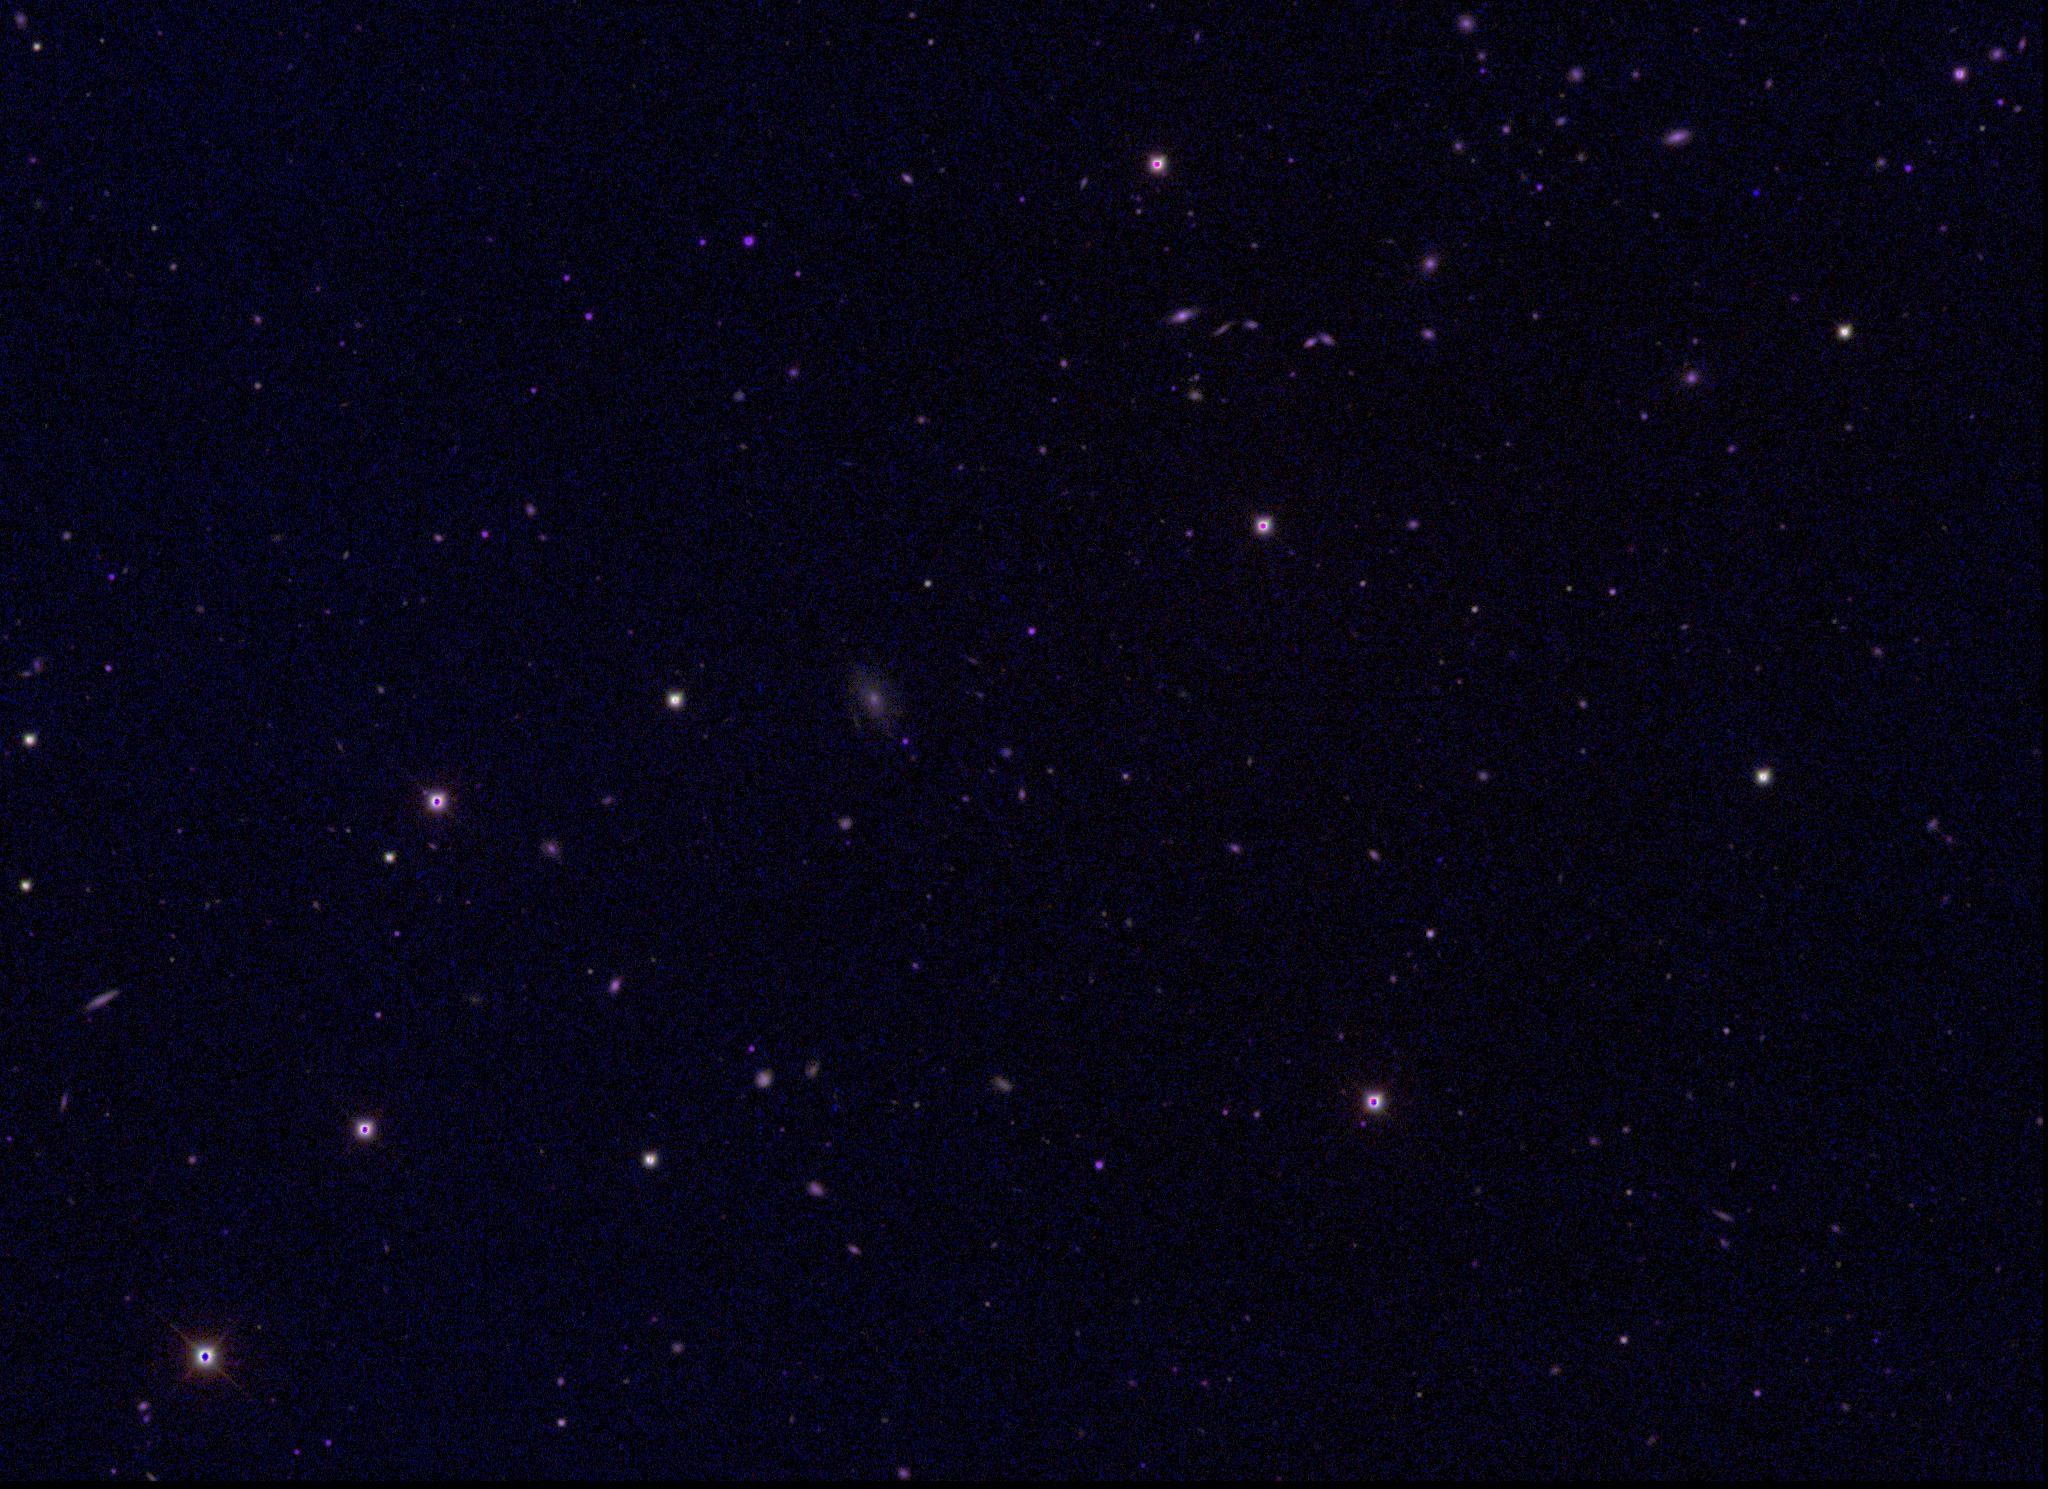L: (1747, 181, 1762, 196)
